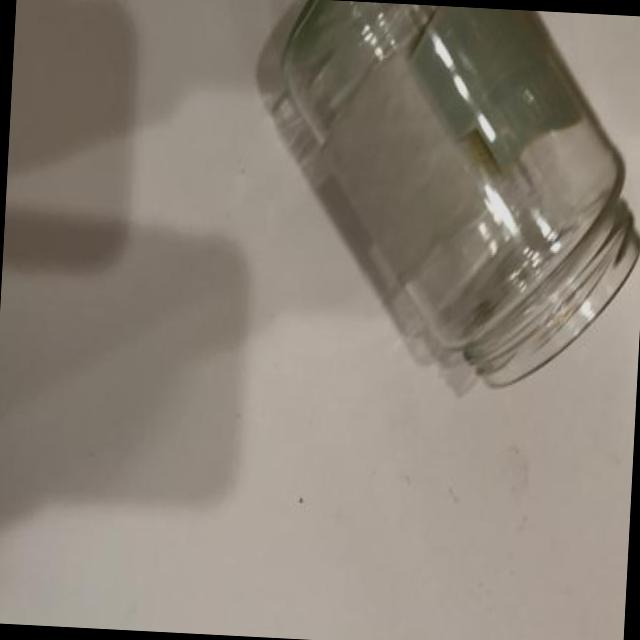chai_thuy_tinh: (282, 0, 640, 386)
